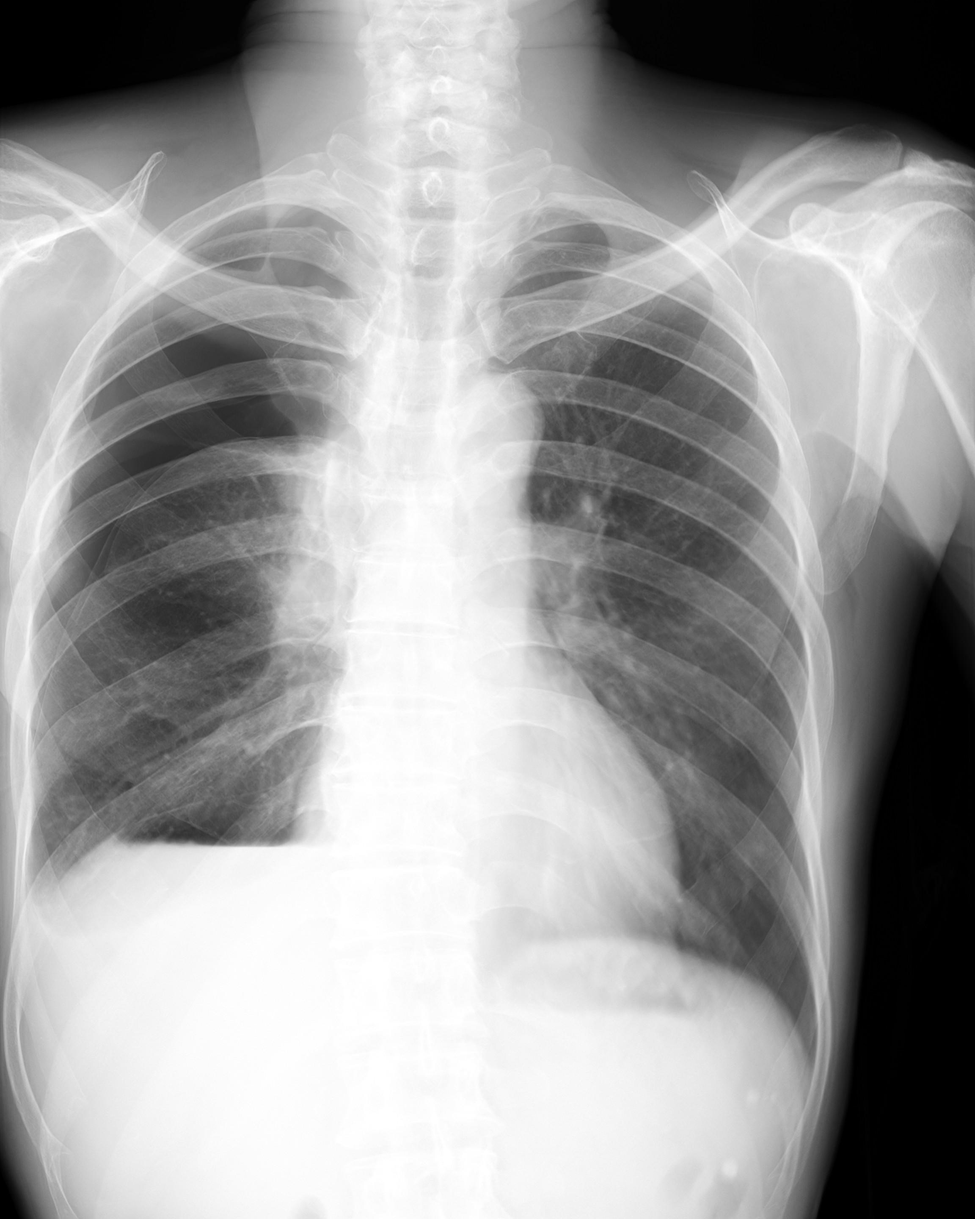Aortic enlargement: (432, 367, 548, 482)
Pleural thickening: (179, 201, 316, 248), (15, 861, 55, 946)
